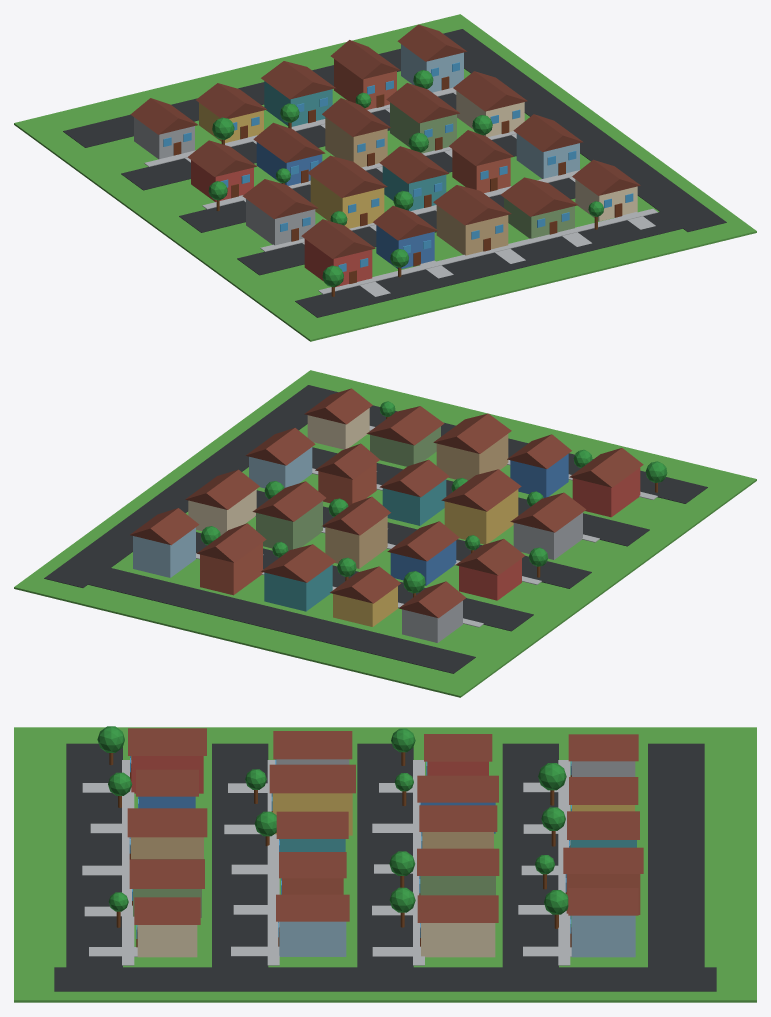
The model's file is neighborhood.glb.
3 views of the same model, one above another, from view 1: azimuth 30°, elevation 25°; view 2: azimuth 150°, elevation 25°; view 3: azimuth 270°, elevation 25° (orthographic). The views are drawn at different scales.
Visible parts, largest first — view 1: NeighborhoodGround, Road, MainRoad, Road.004, Road.003, Road.001, Road.002, House.002, House.006, Roof.006, Sidewalk, Roof.002 (+39 smaller); view 2: NeighborhoodGround, Road.004, MainRoad, Road.001, Road.002, House.006, Road.003, Road, House.019, House.018, House.017, House.002 (+35 smaller); view 3: NeighborhoodGround, MainRoad, Road.004, Road.001, Road, Road.003, Road.002, House.019, House.014, Roof.006, House.009, Roof.002 (+44 smaller).
Boxes of the visible parts, left/top/right/bottom form: NeighborhoodGround: left=14, top=14, right=756, bottom=341; Road: left=295, top=205, right=707, bottom=317; MainRoad: left=443, top=29, right=726, bottom=231; Road.004: left=63, top=36, right=475, bottom=147; Road.003: left=121, top=78, right=533, bottom=190; Road.001: left=237, top=163, right=649, bottom=275; Road.002: left=179, top=121, right=591, bottom=232; House.002: left=436, top=205, right=508, bottom=255; House.006: left=310, top=176, right=384, bottom=228; Roof.006: left=307, top=155, right=387, bottom=197; Sidewalk: left=318, top=208, right=657, bottom=294; Roof.002: left=433, top=185, right=511, bottom=225; NeighborhoodGround: left=14, top=370, right=756, bottom=697; Road.004: left=63, top=561, right=475, bottom=673; MainRoad: left=44, top=385, right=338, bottom=587; Road.001: left=237, top=434, right=649, bottom=546; Road.002: left=179, top=477, right=591, bottom=588; House.006: left=444, top=489, right=518, bottom=544; Road.003: left=122, top=519, right=533, bottom=631; Road: left=295, top=392, right=707, bottom=503; House.019: left=133, top=527, right=195, bottom=577; House.018: left=200, top=542, right=262, bottom=595; House.017: left=264, top=564, right=332, bottom=611; House.002: left=436, top=434, right=508, bottom=480; NeighborhoodGround: left=14, top=727, right=756, bottom=1002; MainRoad: left=54, top=967, right=716, bottom=991; Road.004: left=648, top=743, right=704, bottom=982; Road.001: left=212, top=743, right=268, bottom=982; Road: left=66, top=743, right=122, bottom=982; Road.003: left=502, top=743, right=558, bottom=982; Road.002: left=357, top=743, right=413, bottom=982; House.019: left=571, top=915, right=635, bottom=957; House.014: left=421, top=923, right=495, bottom=957; Roof.006: left=269, top=764, right=355, bottom=793; House.009: left=279, top=921, right=346, bottom=956; Roof.002: left=127, top=808, right=207, bottom=837.
Bounding box in the file's own units: 80 × 8.27 × 92.
